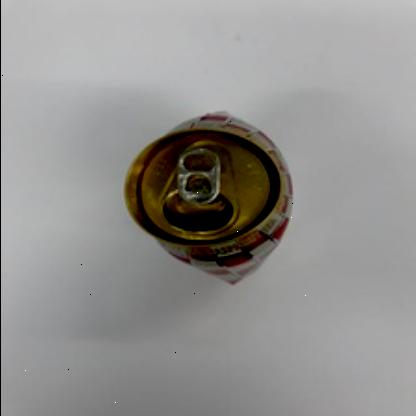Can: (124, 108, 292, 284)
